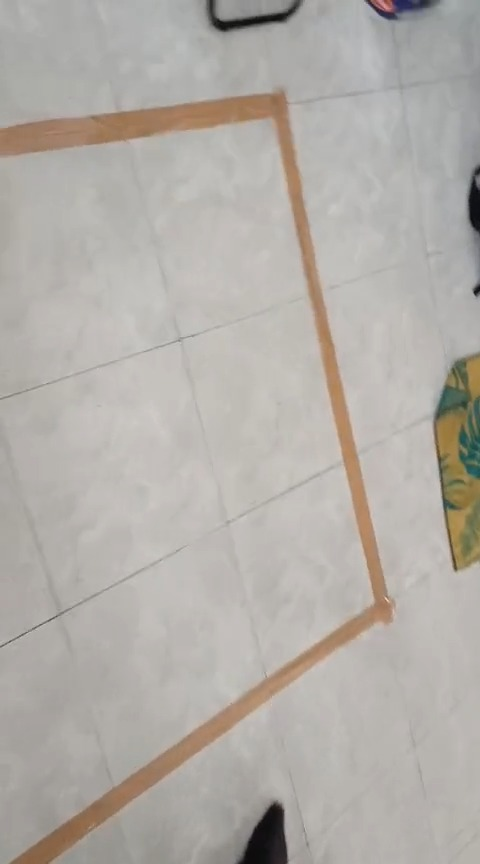floor marking: (0, 94, 393, 863)
